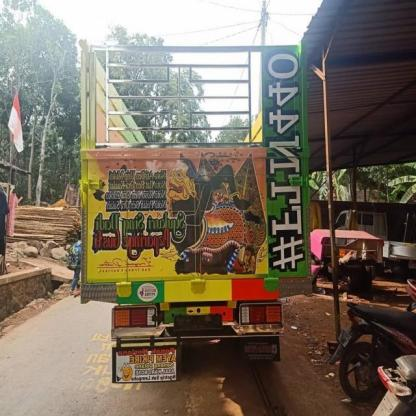truck: (81, 42, 312, 384)
